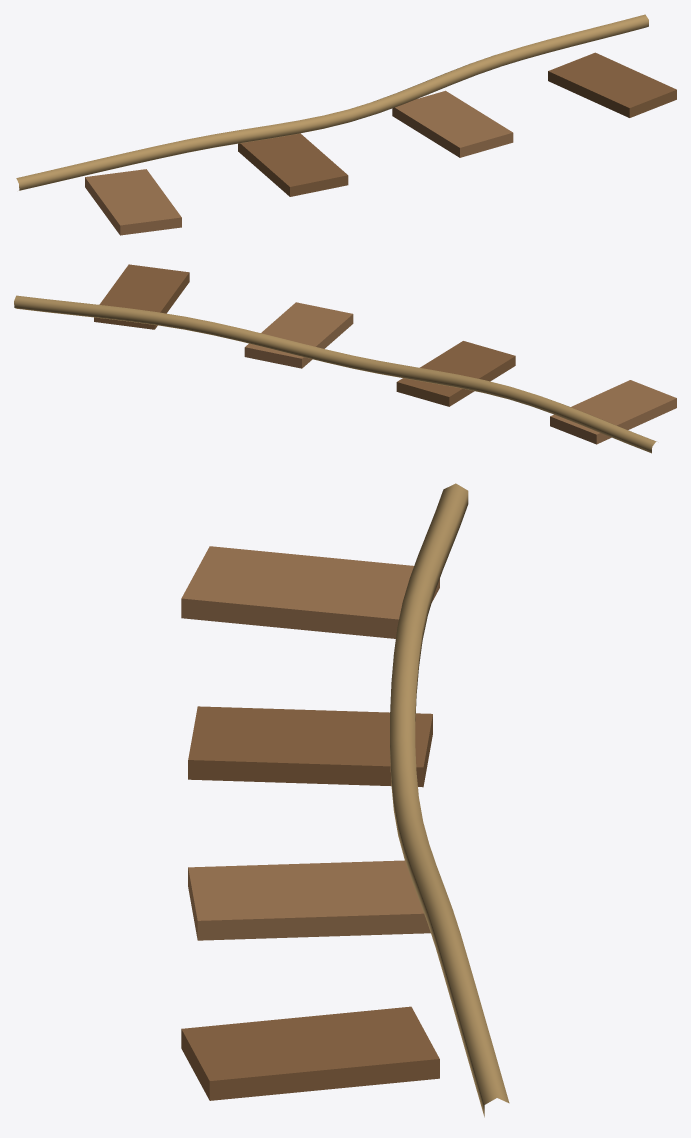
File: wooden-tags-string.glb
3 renders of one model, top to bottom at view 1: azimuth 30°, elevation 25°; view 2: azimuth 150°, elevation 25°; view 3: azimuth 270°, elevation 25°, orthographic. The views are drawn at different scales.
Size of the model in its own units: 0.8022 by 0.036 by 0.1808.
